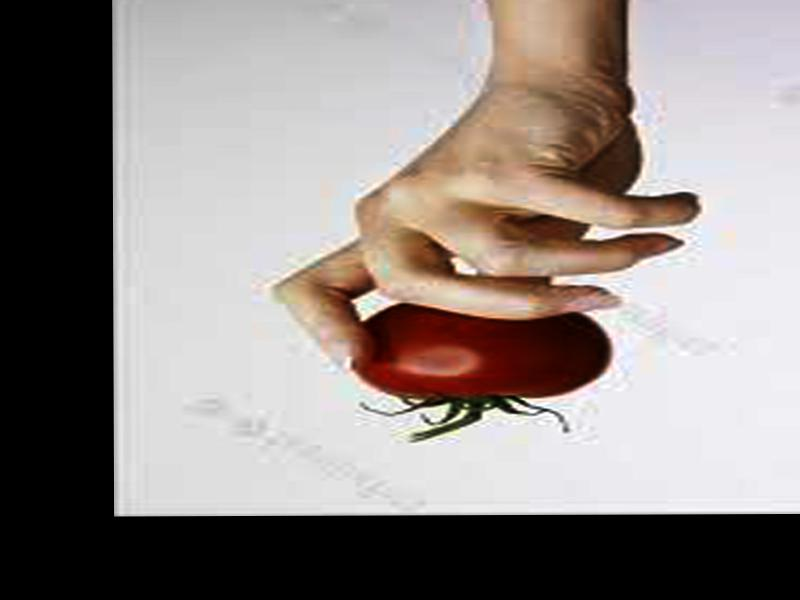Tomato: (355, 304, 607, 440)
